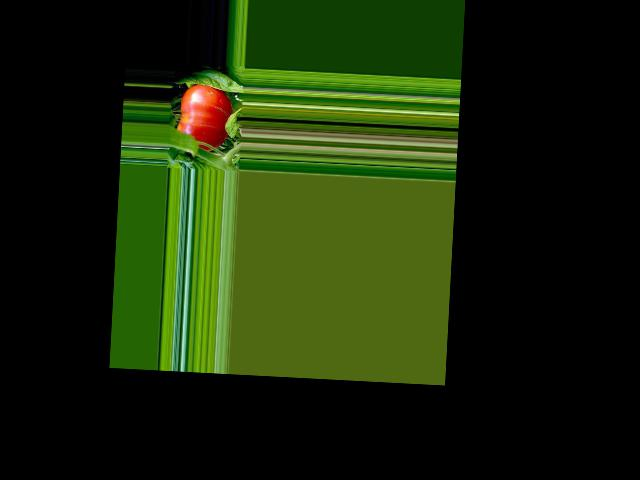tomato: (175, 83, 233, 152)
